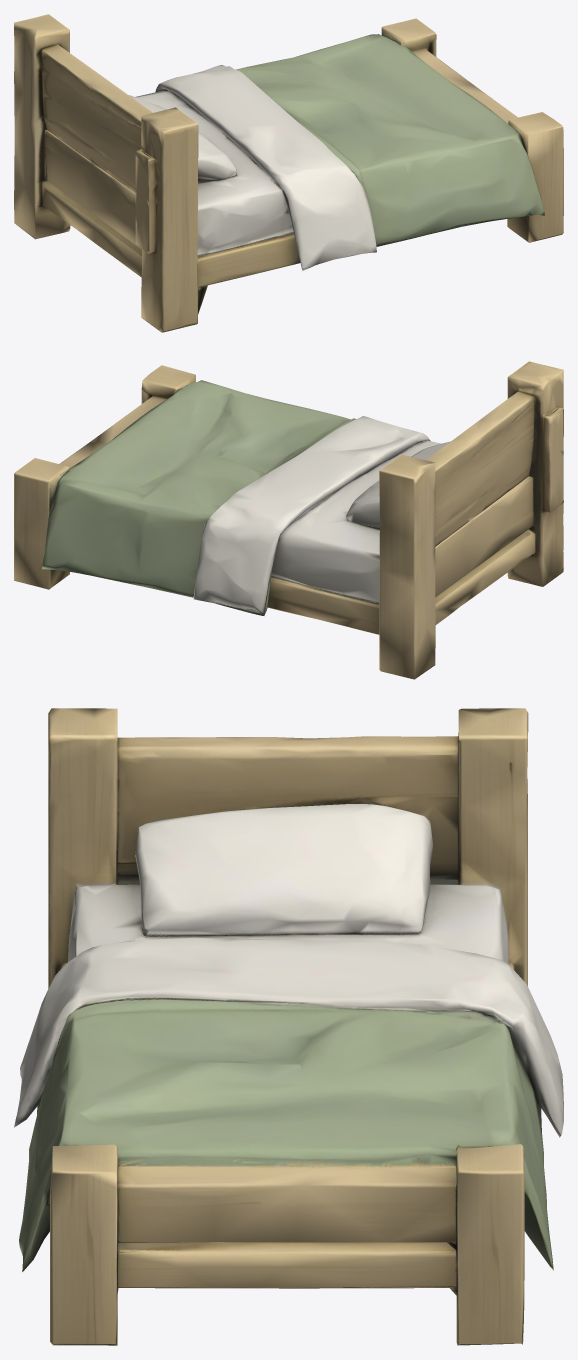
File: bed.fbx
3 renders of one model, top to bottom at view 1: azimuth 30°, elevation 25°; view 2: azimuth 150°, elevation 25°; view 3: azimuth 270°, elevation 25°, orthographic. The views are drawn at different scales.
Parts seen in each view (by area): view 1: tripo_node_2c83f193; view 2: tripo_node_2c83f193; view 3: tripo_node_2c83f193.
Part boxes in pixels (box(x1,y1,x2,y2)): tripo_node_2c83f193: box(14, 14, 563, 332); tripo_node_2c83f193: box(14, 361, 563, 679); tripo_node_2c83f193: box(14, 708, 563, 1345).
Size of the model in its own units: 0.9802 by 0.4623 by 0.7122.
